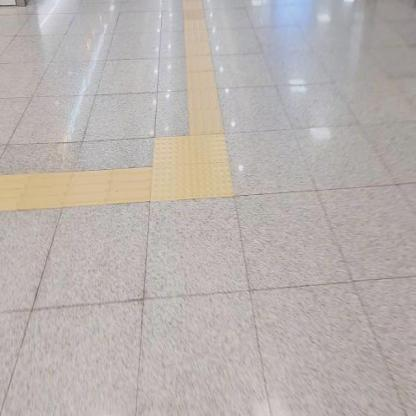podotacti: (138, 115, 245, 226), (0, 166, 153, 214), (180, 0, 223, 134)
